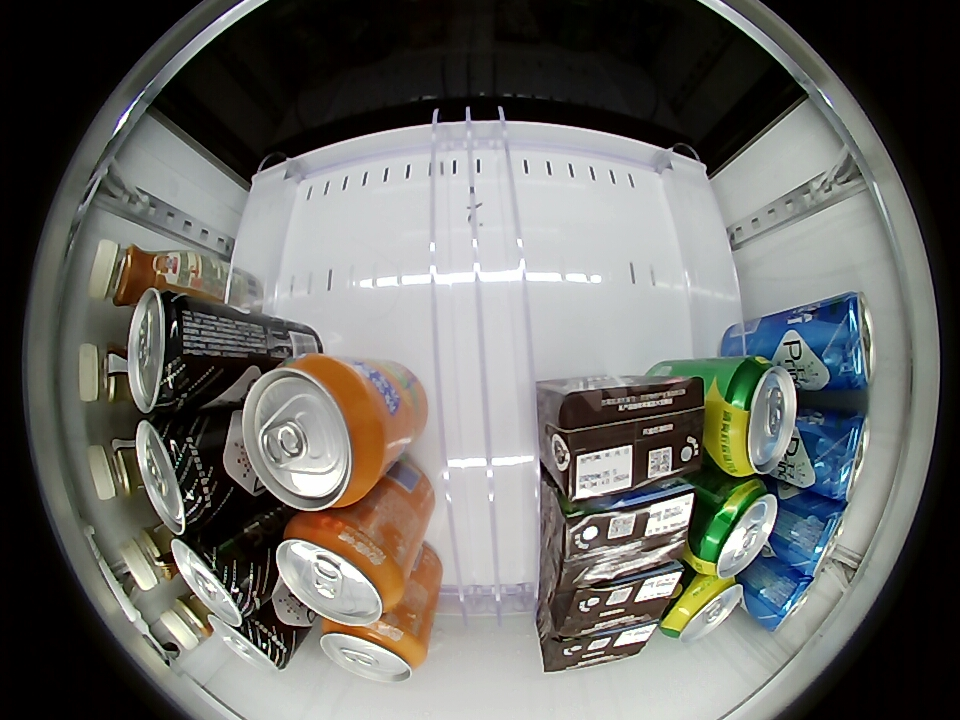fenda: (239, 355, 390, 511), (276, 514, 405, 627), (318, 617, 427, 683)
kafei: (87, 240, 190, 308), (120, 520, 182, 592), (88, 437, 150, 501), (79, 342, 138, 407), (159, 592, 216, 652)
qingdaowangzi-1: (136, 412, 228, 535), (127, 290, 212, 413), (172, 530, 264, 627), (209, 610, 292, 672)
qingdaowangzi-2: (813, 292, 875, 391), (806, 410, 870, 502), (780, 494, 850, 577), (749, 566, 817, 631)
weitanai2: (552, 379, 704, 502), (555, 483, 695, 584), (555, 562, 685, 635), (540, 620, 658, 673)
xuebi2: (705, 357, 798, 476), (687, 477, 780, 578), (661, 573, 743, 644)
